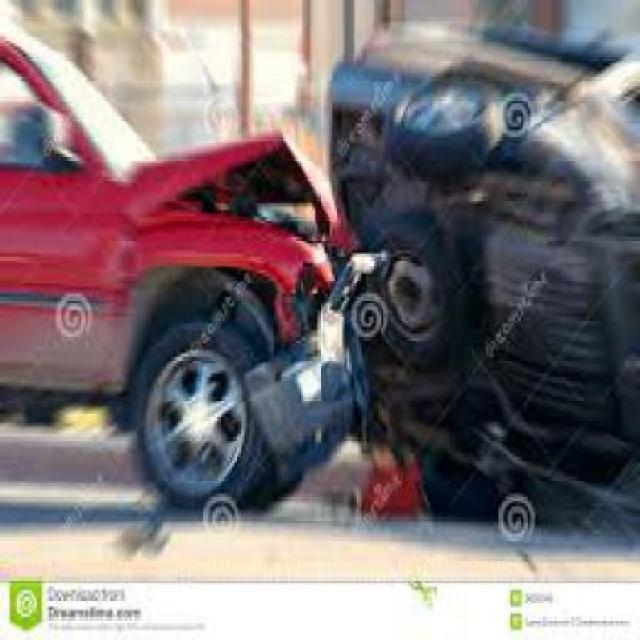damaged-hood: (138, 135, 339, 234)
